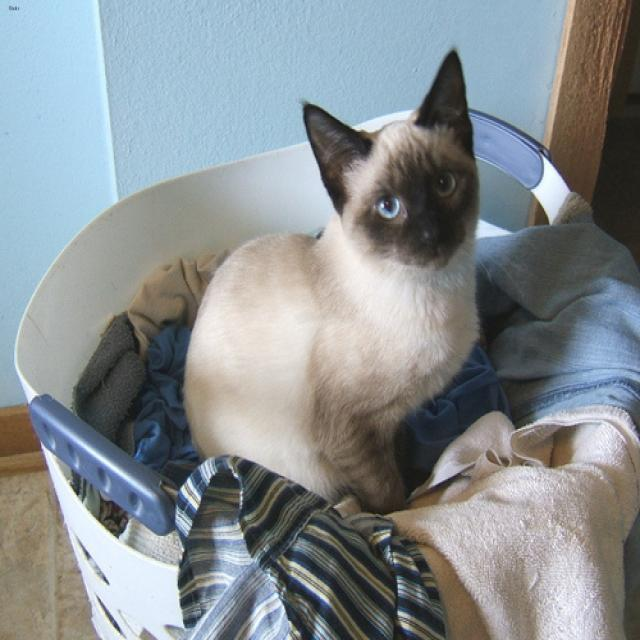Siamese: (301, 47, 475, 272)
